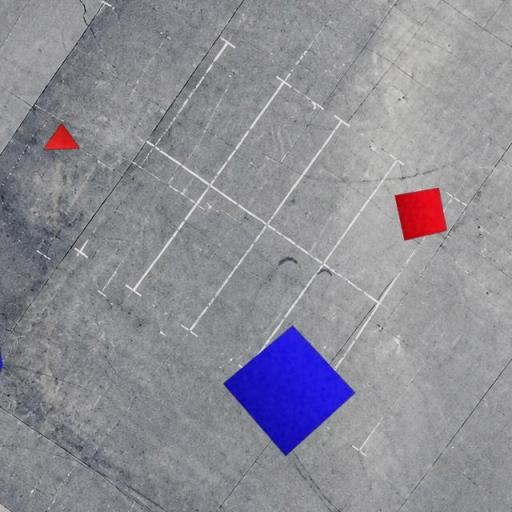BLUE_SQUARE: (222, 325, 356, 456)
RED_SQUARE: (394, 187, 448, 242)
